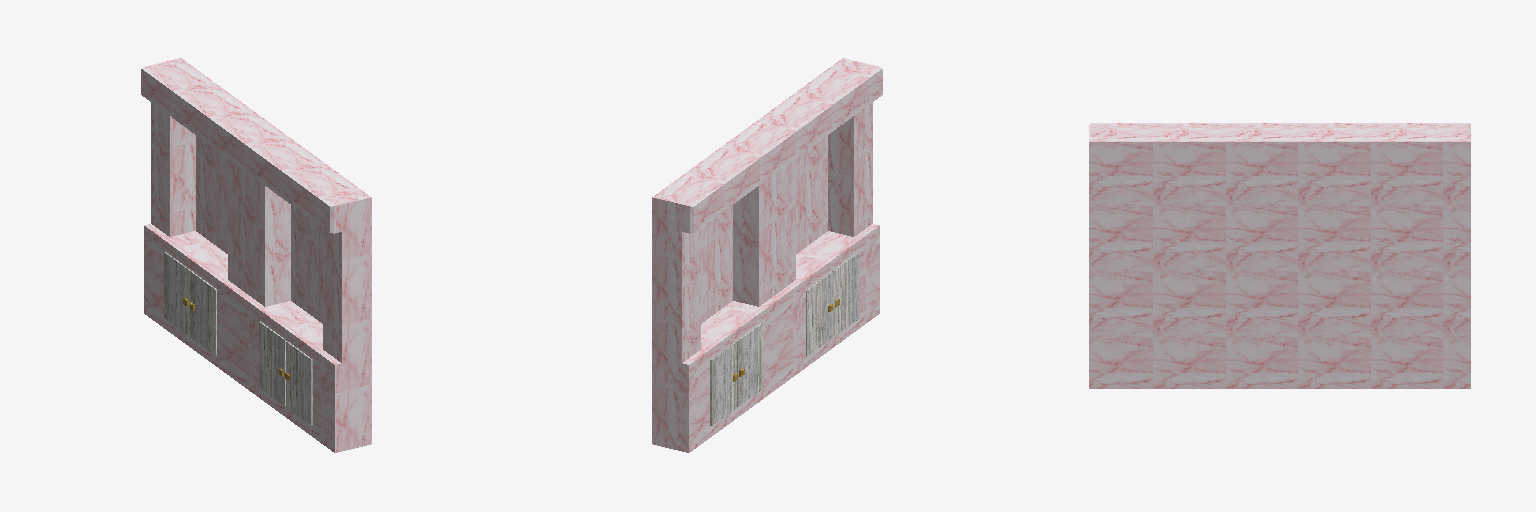
The picture shows the model from 3 angles: view 1: azimuth 30°, elevation 25°; view 2: azimuth 150°, elevation 25°; view 3: azimuth 270°, elevation 25°; orthographic projection.
Visible parts, largest first — view 1: mesh[number redacted], mesh[number redacted]; view 2: mesh[number redacted], mesh[number redacted]; view 3: mesh[number redacted].
Part boxes in pixels (x1,y1,x2,y2): mesh[number redacted]: (141,58,371,452); mesh[number redacted]: (164,252,312,425); mesh[number redacted]: (652,58,882,452); mesh[number redacted]: (710,252,858,425); mesh[number redacted]: (1089,123,1470,388).
Size of the model in its own units: 0.0098 by 0.0572 by 0.08.
3 materials, 3 textured.